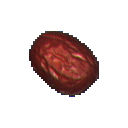gd: (13, 17, 114, 128)
